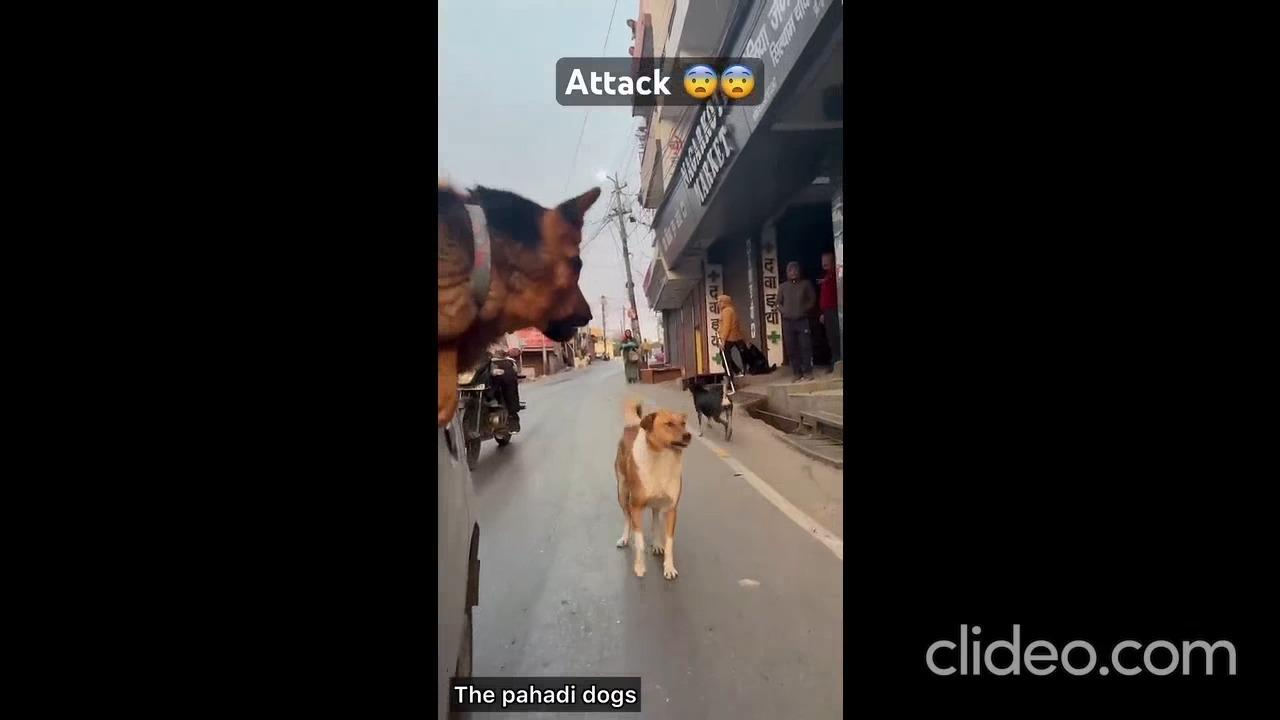dog: (594, 382, 691, 573)
